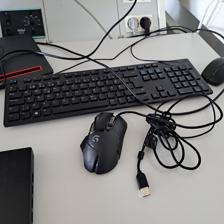mouse: (79, 111, 127, 175)
